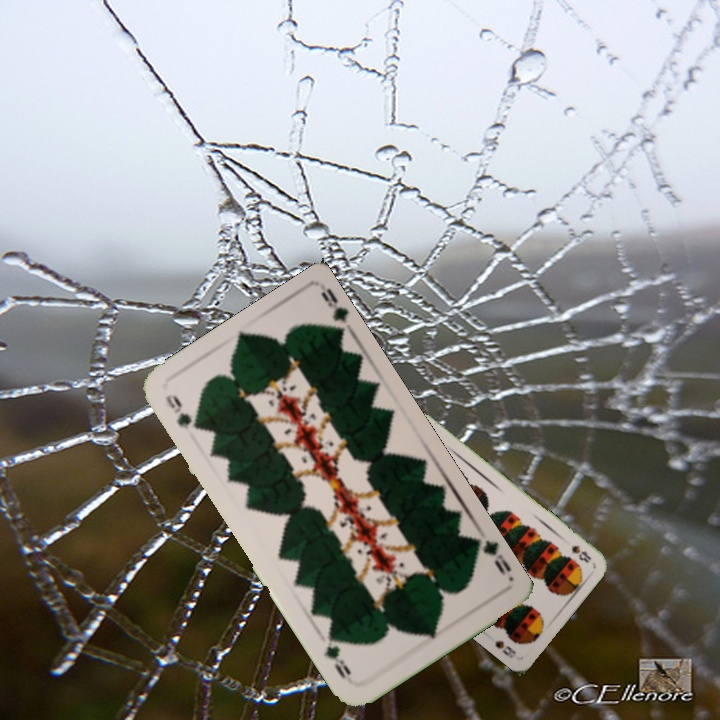G9: (161, 389, 204, 436), (469, 534, 514, 578)
S8: (567, 541, 594, 565)
